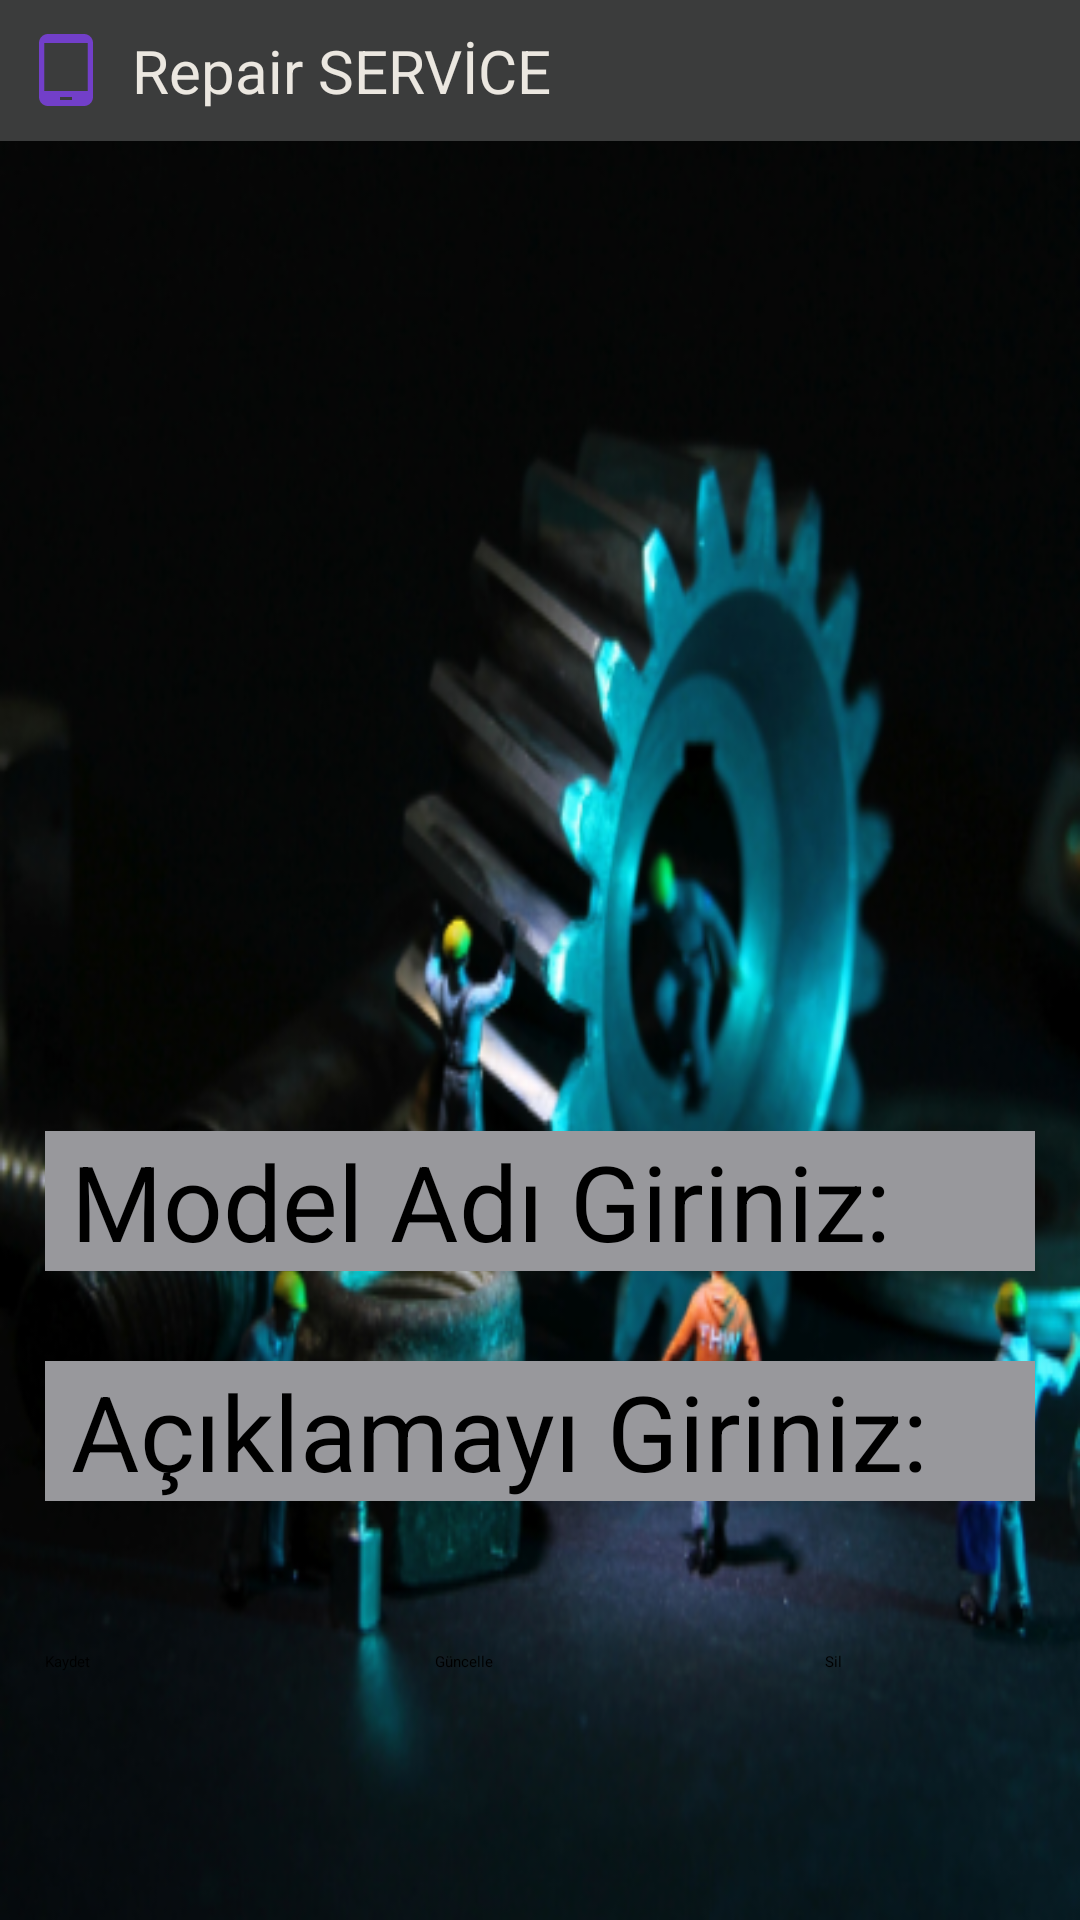

Icon click points for this 1080 × 1920 phone screenshot, format point (x, y):
tablet android: point (66, 70)
